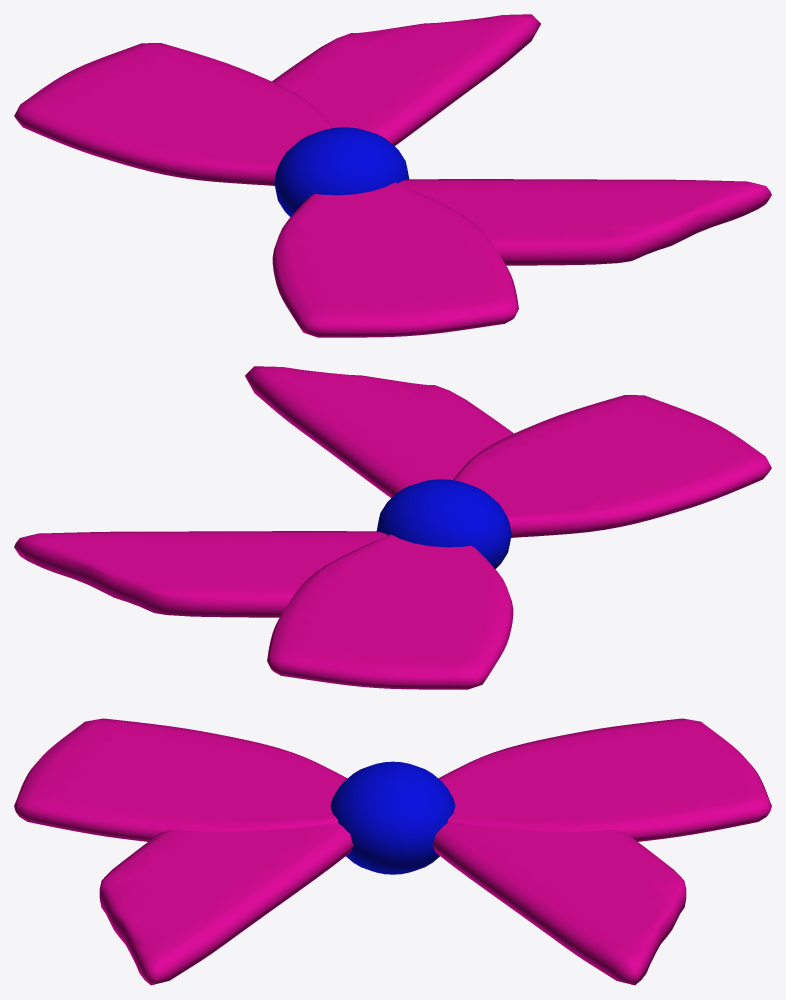
The model's file is Ribbon.fbx.
3 renders of one model, top to bottom at view 1: azimuth 30°, elevation 25°; view 2: azimuth 150°, elevation 25°; view 3: azimuth 270°, elevation 25°, orthographic. The views are drawn at different scales.
Visible parts, largest first — view 1: EXP_Lazo; view 2: EXP_Lazo; view 3: EXP_Lazo.
Boxes of the visible parts, box(x1,y1,x2,y2) form: EXP_Lazo: box(14, 14, 771, 337); EXP_Lazo: box(14, 366, 771, 689); EXP_Lazo: box(14, 718, 771, 985).
Size of the model in its own units: 0.496 by 0.0885 by 0.6359.
